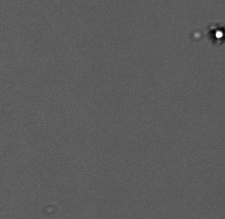Living Cell: (209, 25, 224, 42)
